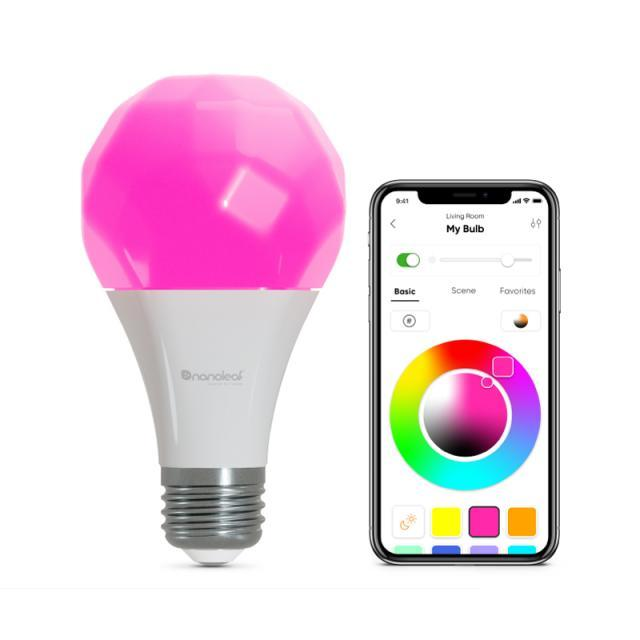light_bulb: (74, 59, 354, 594)
